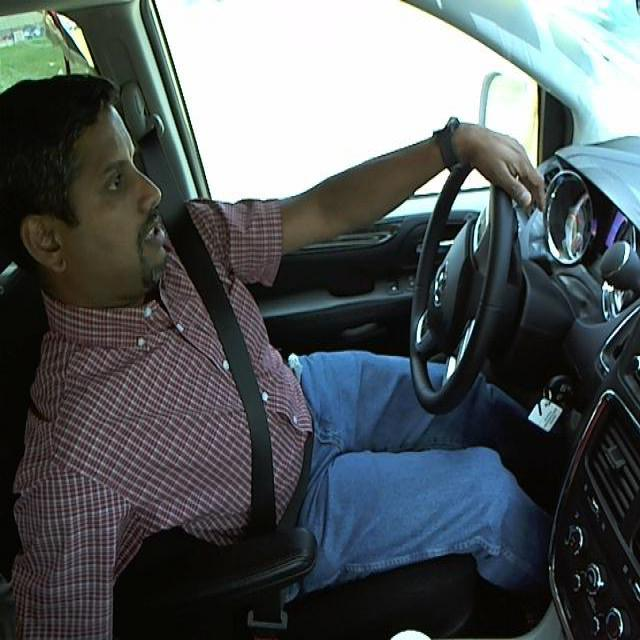seatbelt: (167, 204, 321, 525)
